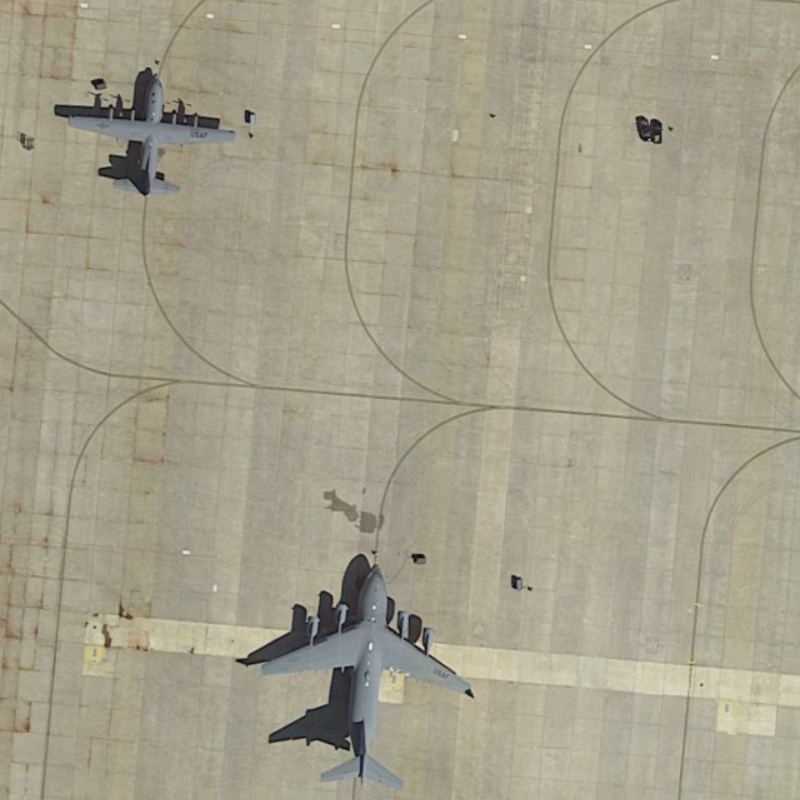A2: (59, 73, 243, 200)
A3: (253, 556, 476, 791)
